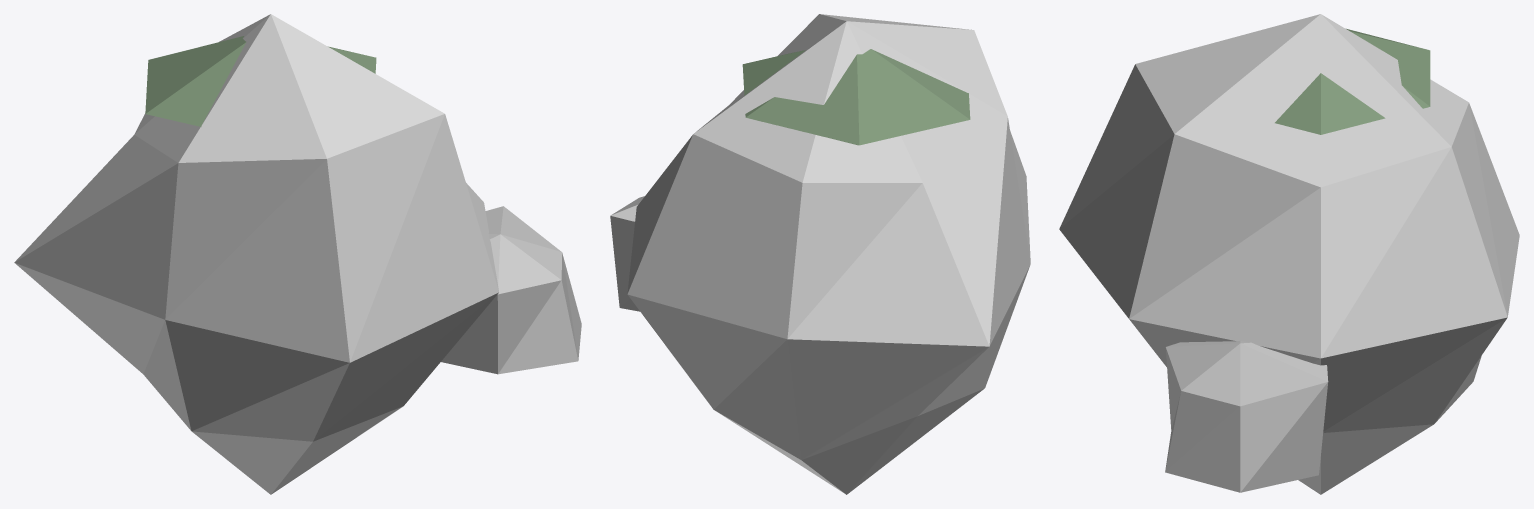
The model's file is prop_rock1.glb.
3 renders of one model, left to right at view 1: azimuth 30°, elevation 25°; view 2: azimuth 150°, elevation 25°; view 3: azimuth 270°, elevation 25°, orthographic.
Visible parts, largest first — view 1: tint, body; view 2: tint, body; view 3: tint, body.
Part boxes in pixels (box(x1,y1,x2,y2)): tint: box(14, 14, 581, 494); body: box(145, 36, 376, 126); tint: box(610, 14, 1030, 494); body: box(742, 49, 970, 145); tint: box(1059, 14, 1519, 494); body: box(1275, 28, 1430, 134).
Bounding box in the file's own units: 2.37 × 2.31 × 2.
